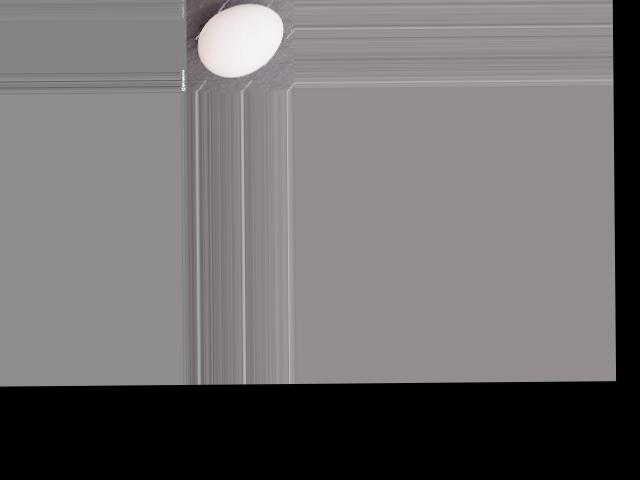egg: (197, 3, 283, 77)
